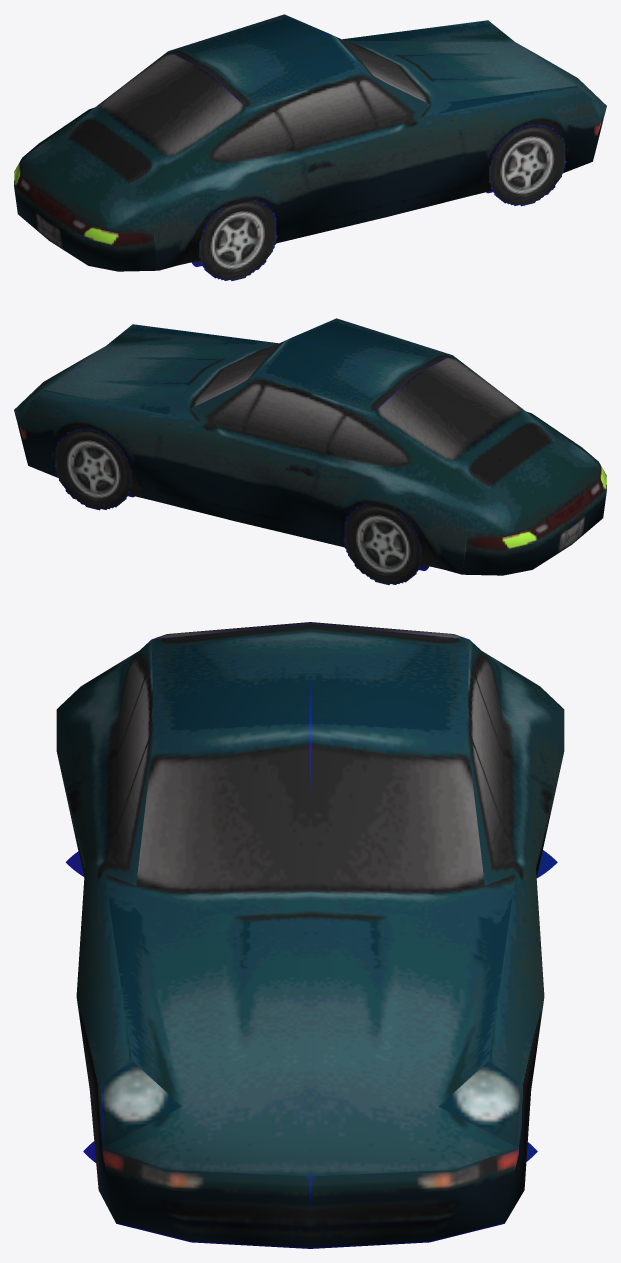
The picture shows the model from 3 angles, top to bottom: view 1: azimuth 30°, elevation 25°; view 2: azimuth 150°, elevation 25°; view 3: azimuth 270°, elevation 25°; orthographic projection. The views are drawn at different scales.
Visible parts, largest first — view 1: _PORSCHE; view 2: _PORSCHE; view 3: _PORSCHE.
Part boxes in pixels (x1,y1,x2,y2): _PORSCHE: (14,14,606,280); _PORSCHE: (14,318,606,584); _PORSCHE: (56,622,564,1248).
Bounding box in the file's own units: 10.81 × 3.18 × 4.46.
Materials: 1 (1 with a texture image).
